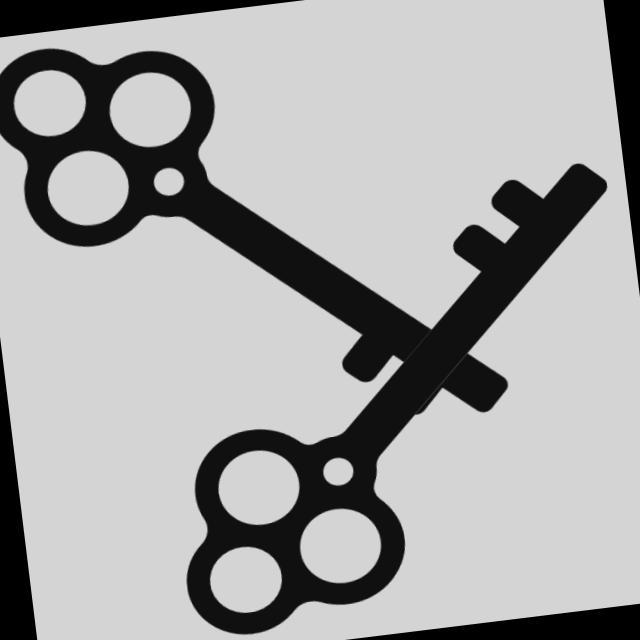key: (158, 110, 621, 640), (1, 31, 550, 473)
